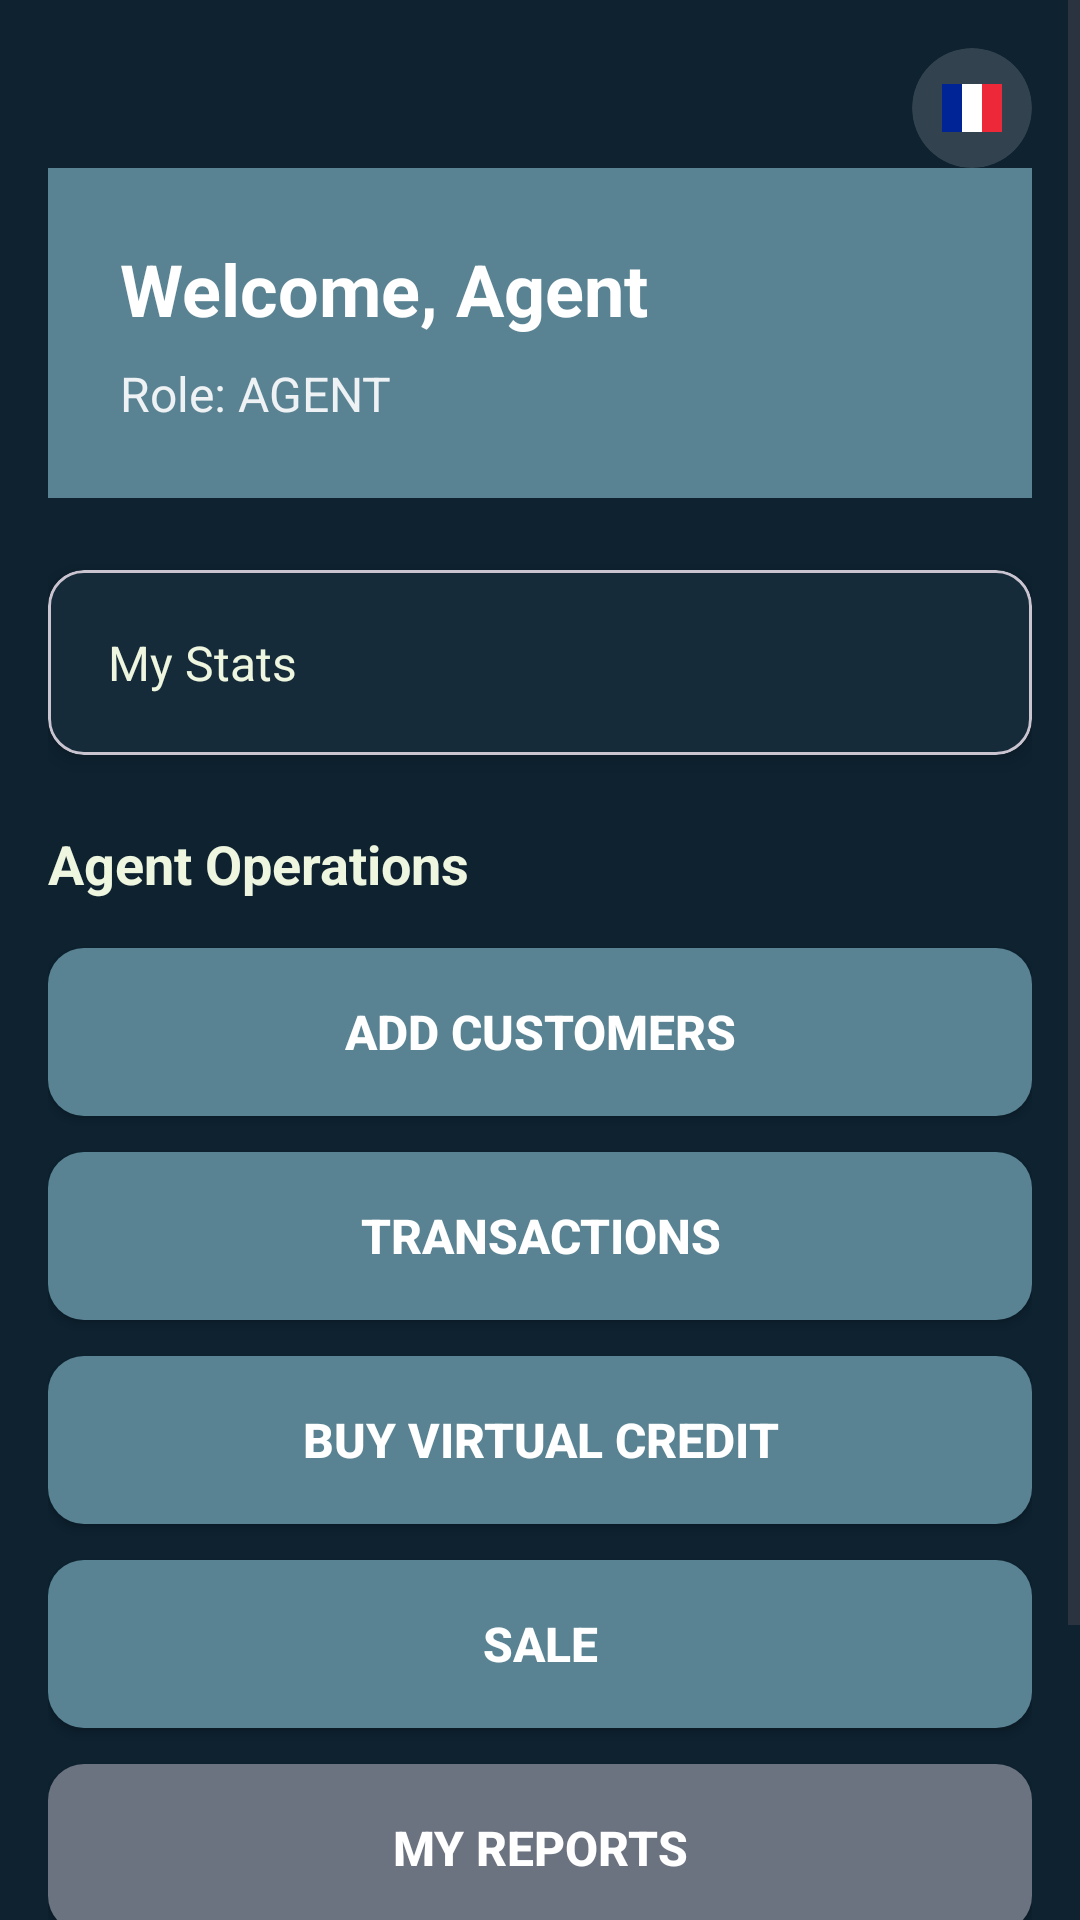

Where to tap for icons on this 1080×1920 app screen, as (x,y):
flag fr: (972,108)
